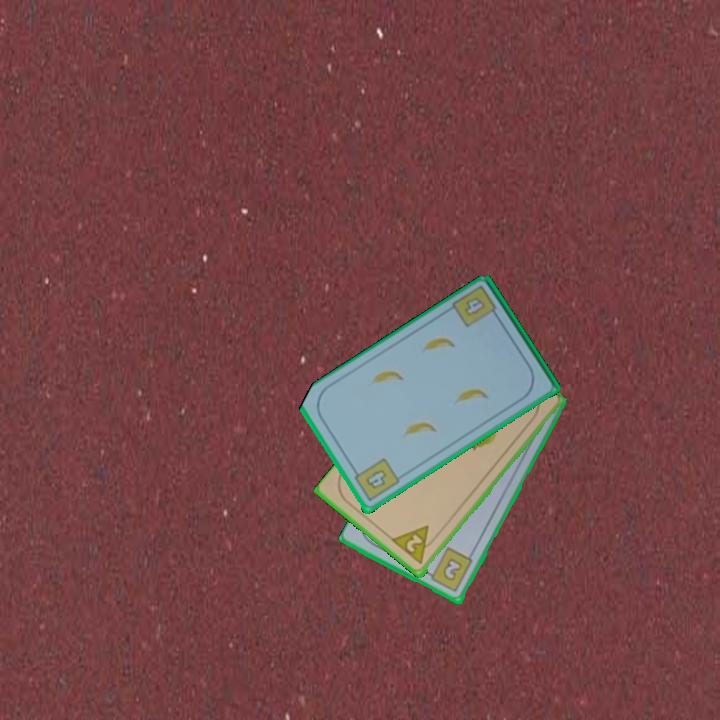2b: (422, 544, 476, 595)
2p: (389, 522, 440, 569)
4b: (349, 455, 402, 505), (449, 282, 503, 331)
